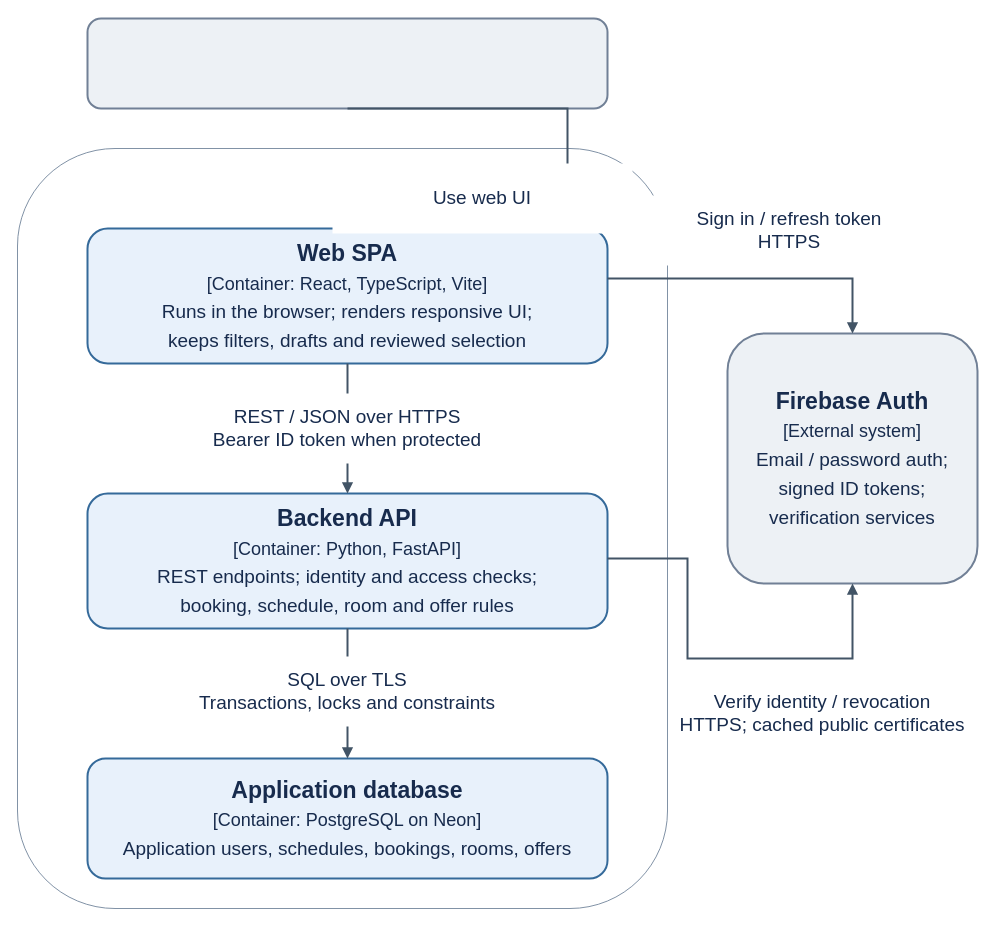
Some shapes in this 996 by 926 pixel diagram are drawn without their labels. Each missing label, with the box of its shape:
CourtMate system boundary: (16, 148, 668, 908)
Visitor / Player / Court Owner [Person]: (86, 17, 608, 109)
